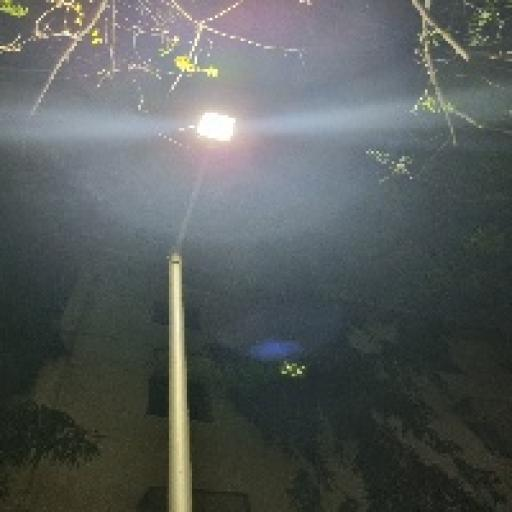Working: (190, 104, 240, 158)
